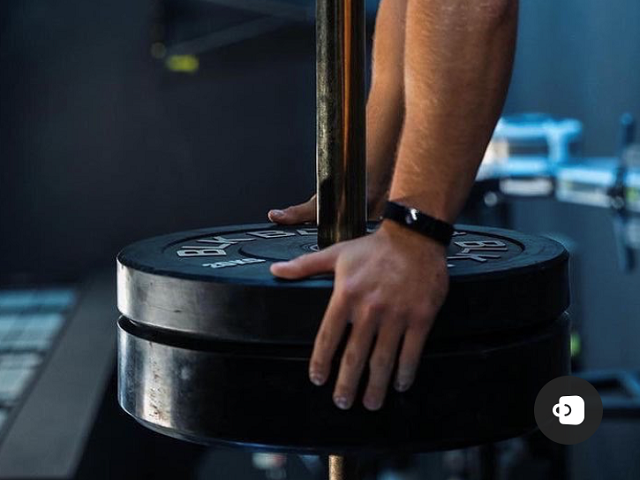weights: (116, 314, 572, 456), (113, 218, 569, 340)
